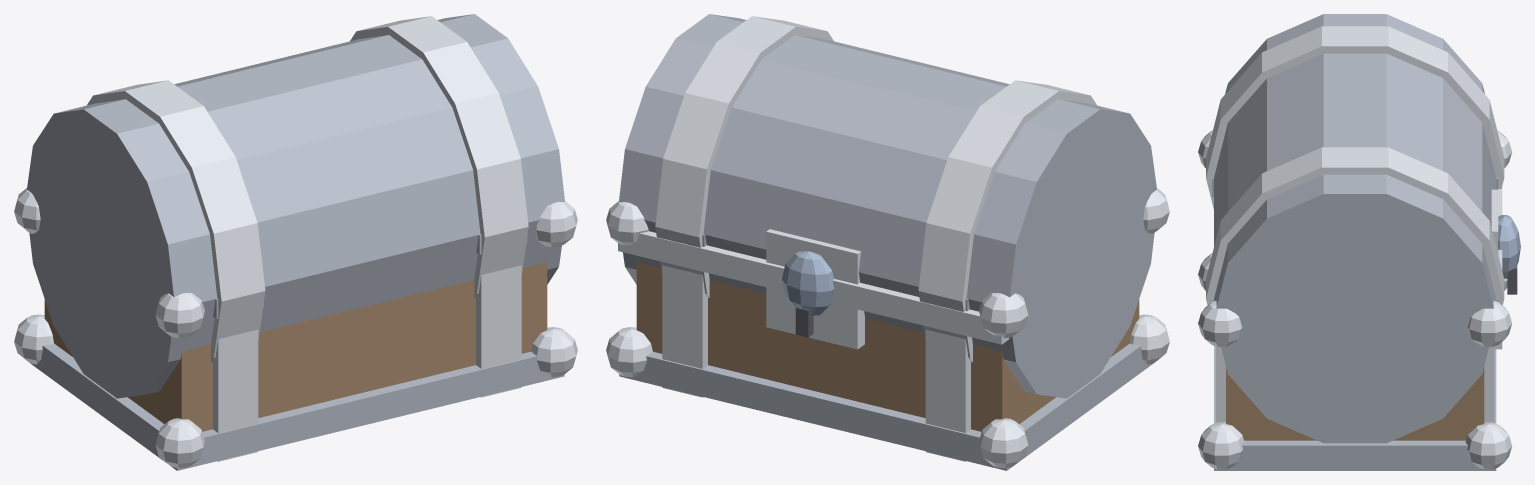
The model's file is SILVER.glb.
The picture shows the model from 3 angles, left to right: view 1: azimuth 30°, elevation 25°; view 2: azimuth 150°, elevation 25°; view 3: azimuth 270°, elevation 25°; orthographic projection. The views are drawn at different scales.
Parts seen in each view (by area): view 1: Lid, Body; view 2: Lid, Body; view 3: Lid, Body.
Boxes of the visible parts, x1,y1,x2,y2 form: Lid: (27, 14, 564, 398); Body: (14, 188, 577, 470); Lid: (619, 14, 1156, 398); Body: (606, 188, 1169, 470); Lid: (1206, 14, 1520, 443); Body: (1198, 130, 1511, 470).
Bounding box in the file's own units: 2.27 × 1.59 × 1.62.
